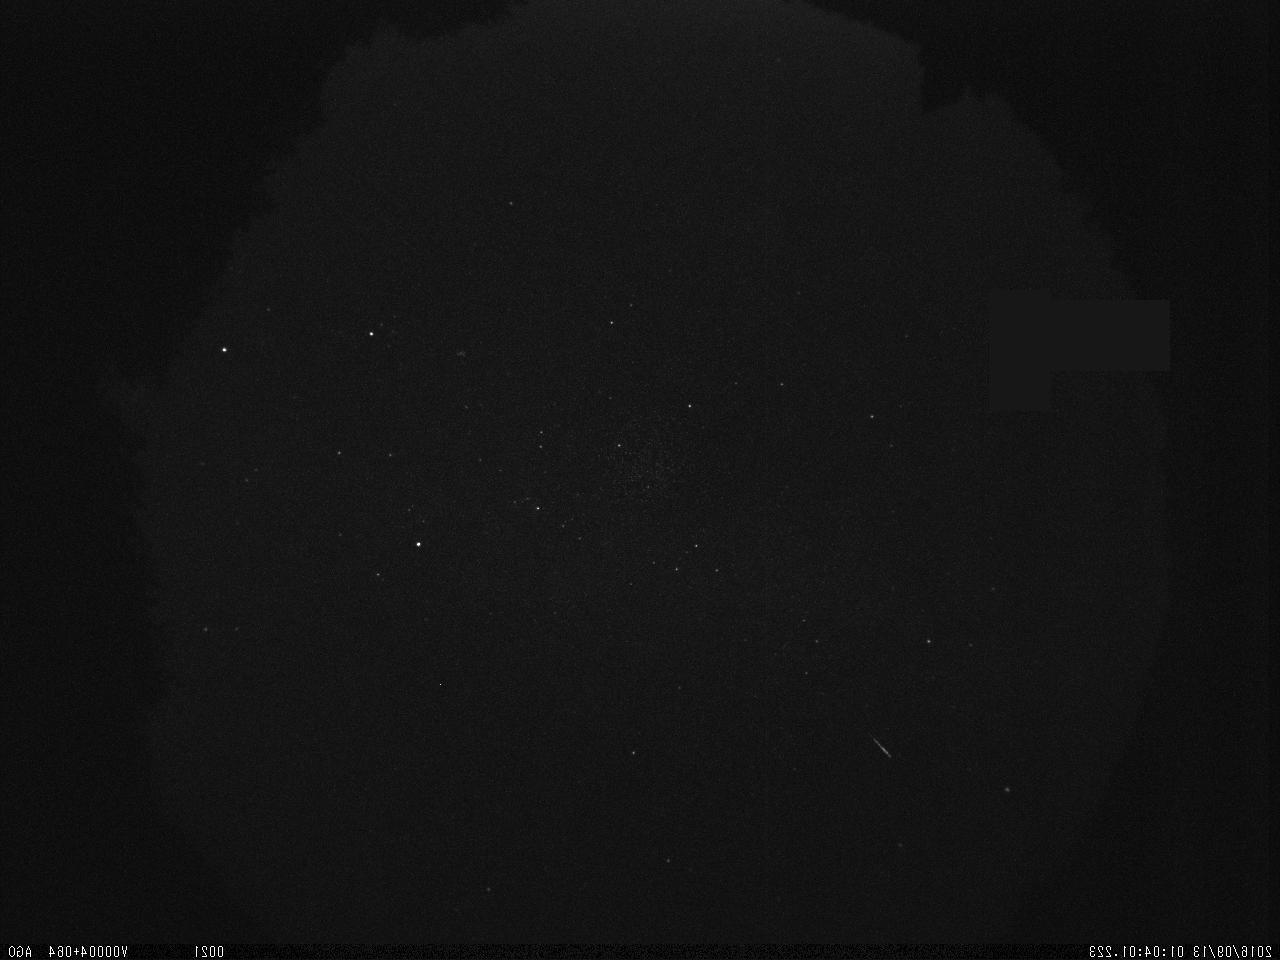meteor: (856, 722, 899, 784)
